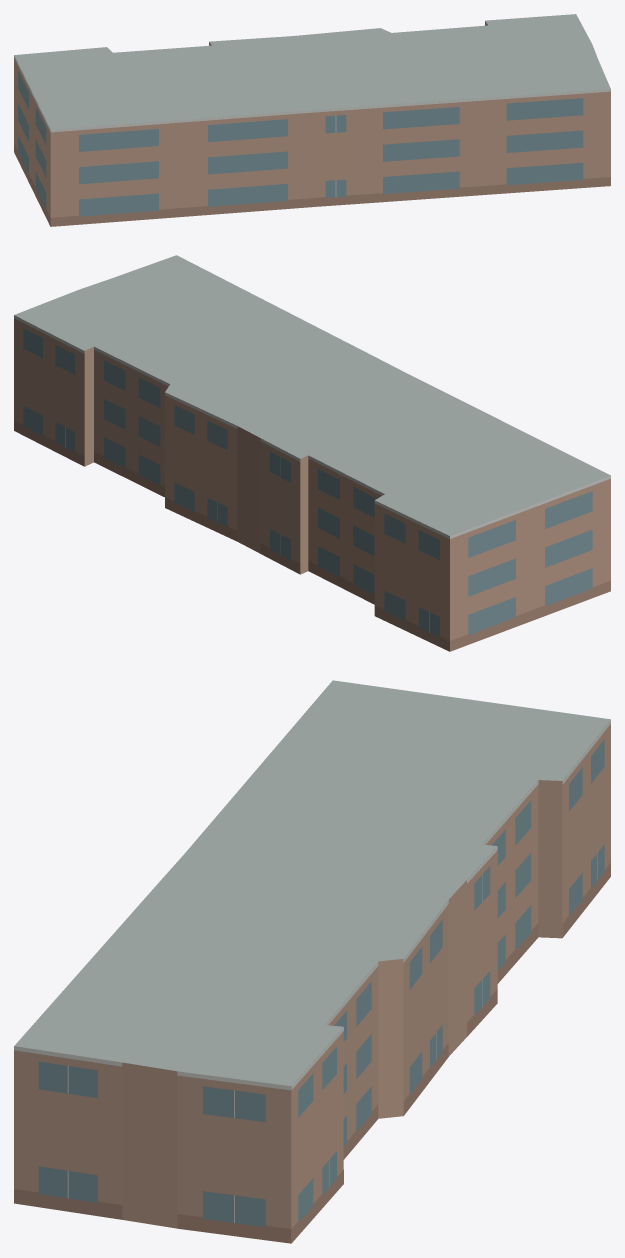
Rendered from survey-upis-32466263.glb.
The picture shows the model from 3 angles, top to bottom: view 1: azimuth 30°, elevation 25°; view 2: azimuth 150°, elevation 25°; view 3: azimuth 270°, elevation 25°; orthographic projection. The views are drawn at different scales.
Parts seen in each view (by area): view 1: survey-upis-32466263.tmp; view 2: survey-upis-32466263.tmp; view 3: survey-upis-32466263.tmp.
Part boxes in pixels (left/top/right/bottom): survey-upis-32466263.tmp: left=14, top=14, right=610, bottom=226; survey-upis-32466263.tmp: left=14, top=255, right=610, bottom=651; survey-upis-32466263.tmp: left=14, top=680, right=610, bottom=1243.
Size of the model in its own units: 50.63 by 9.15 by 31.46.
